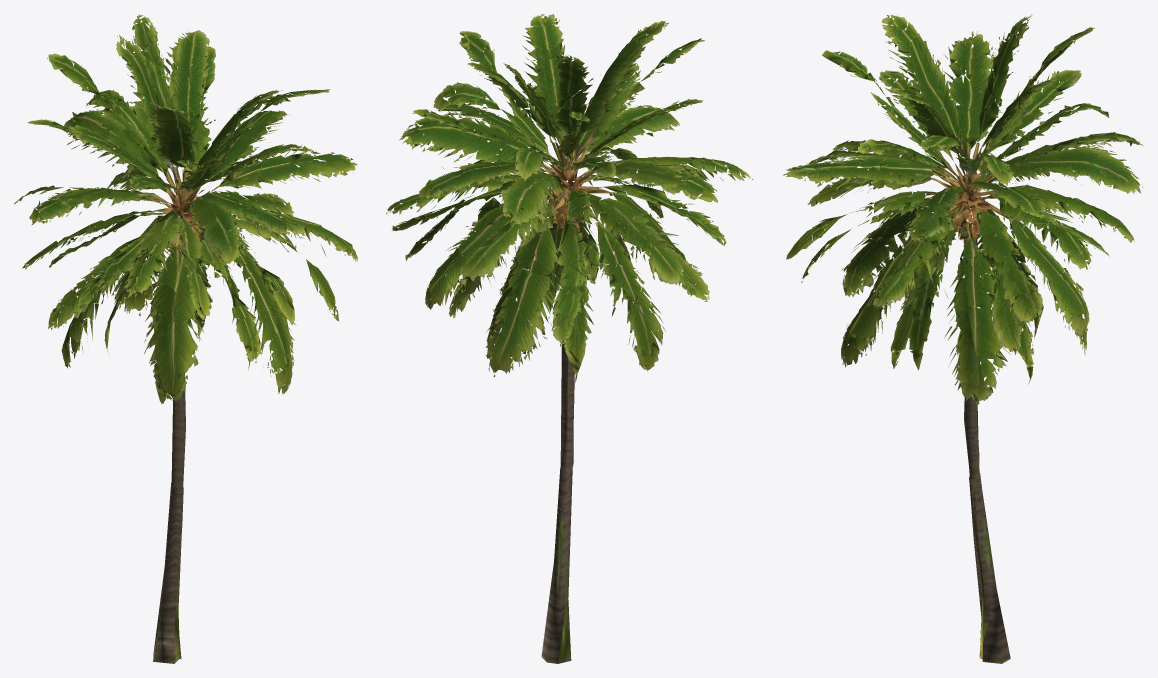
Rendered from palm_b.glb.
The picture shows the model from 3 angles, left to right: view 1: azimuth 30°, elevation 25°; view 2: azimuth 150°, elevation 25°; view 3: azimuth 270°, elevation 25°; orthographic projection.
Visible parts, largest first — view 1: Mesh_0; view 2: Mesh_0; view 3: Mesh_0.
Boxes of the visible parts, x1,y1,x2,y2 form: Mesh_0: [14, 14, 357, 663]; Mesh_0: [386, 14, 753, 663]; Mesh_0: [783, 14, 1143, 663].
Size of the model in its own units: 0.9691 by 1.9 by 0.9879.
Materials: 1 (1 with a texture image).
